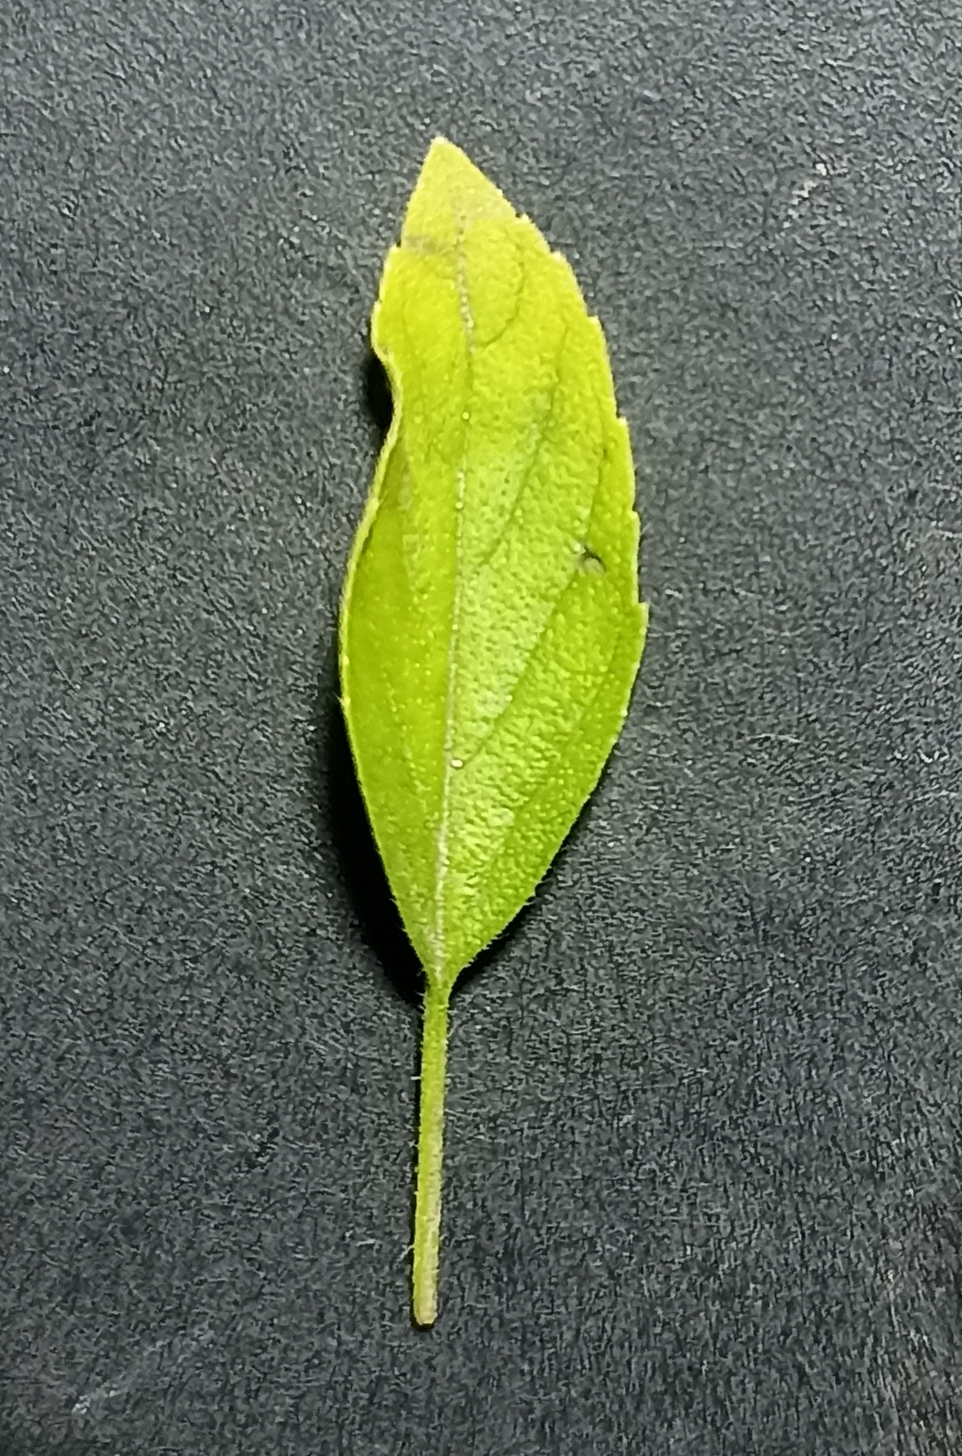Healthy: (294, 126, 665, 995)
